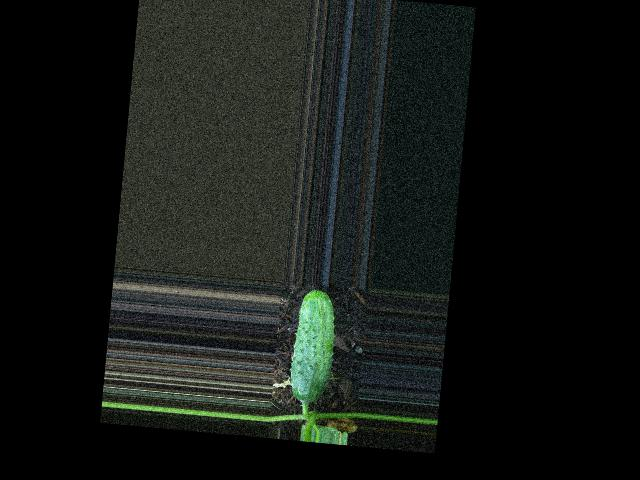cucumber: (287, 287, 339, 404)
